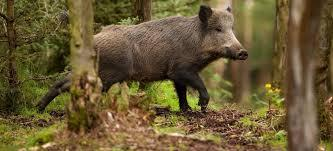wildboar: (33, 3, 252, 116)
